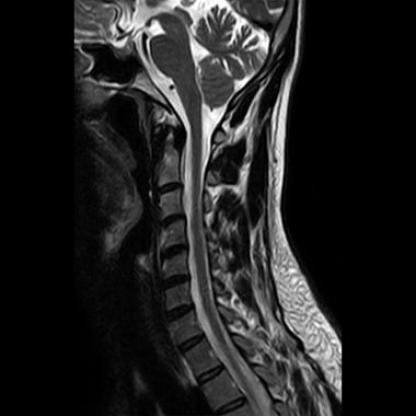Degenerative Disc Diseaserotation: (164, 303, 197, 323), (158, 245, 190, 263), (158, 212, 188, 229)
